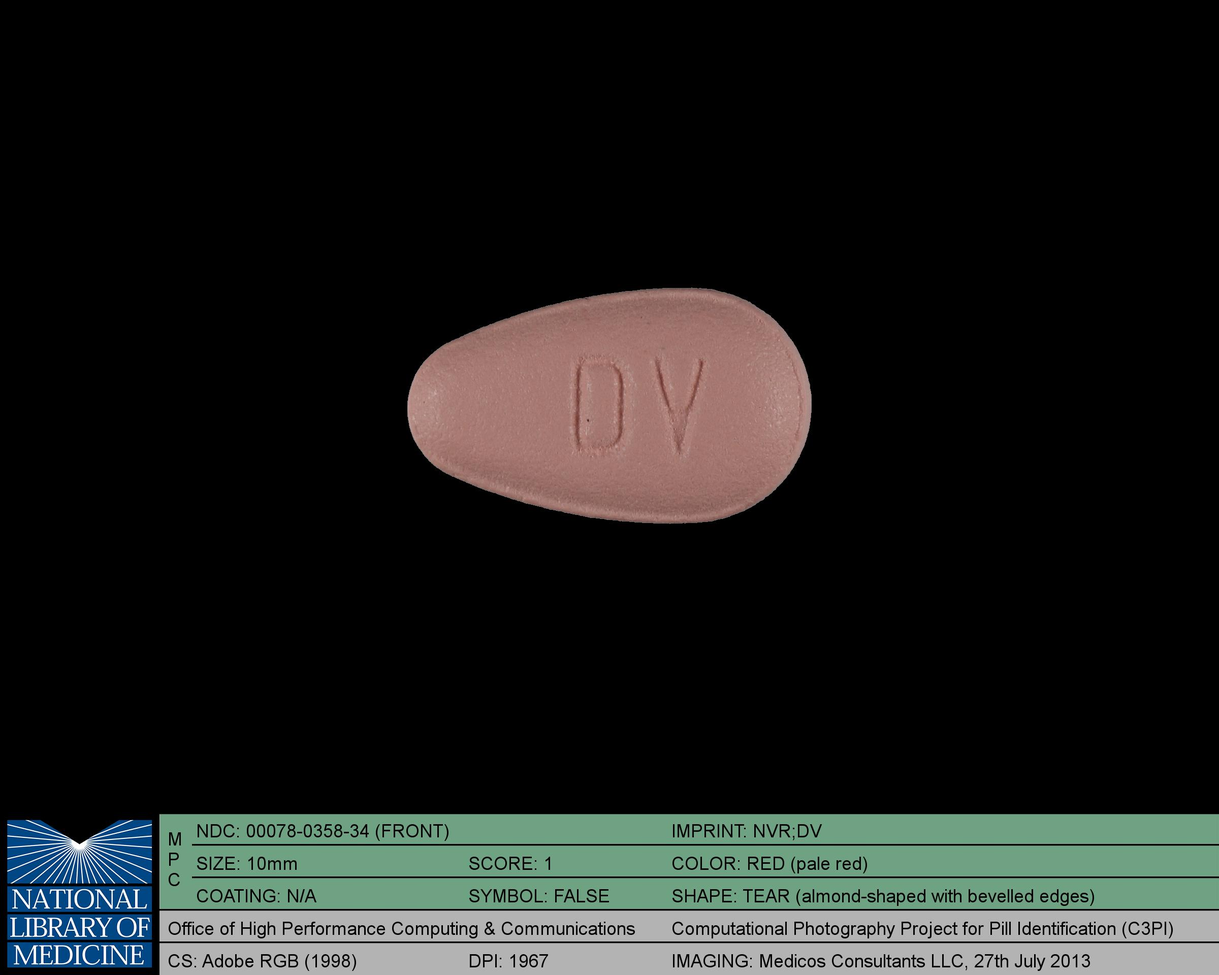Pill: (394, 273, 823, 538)
